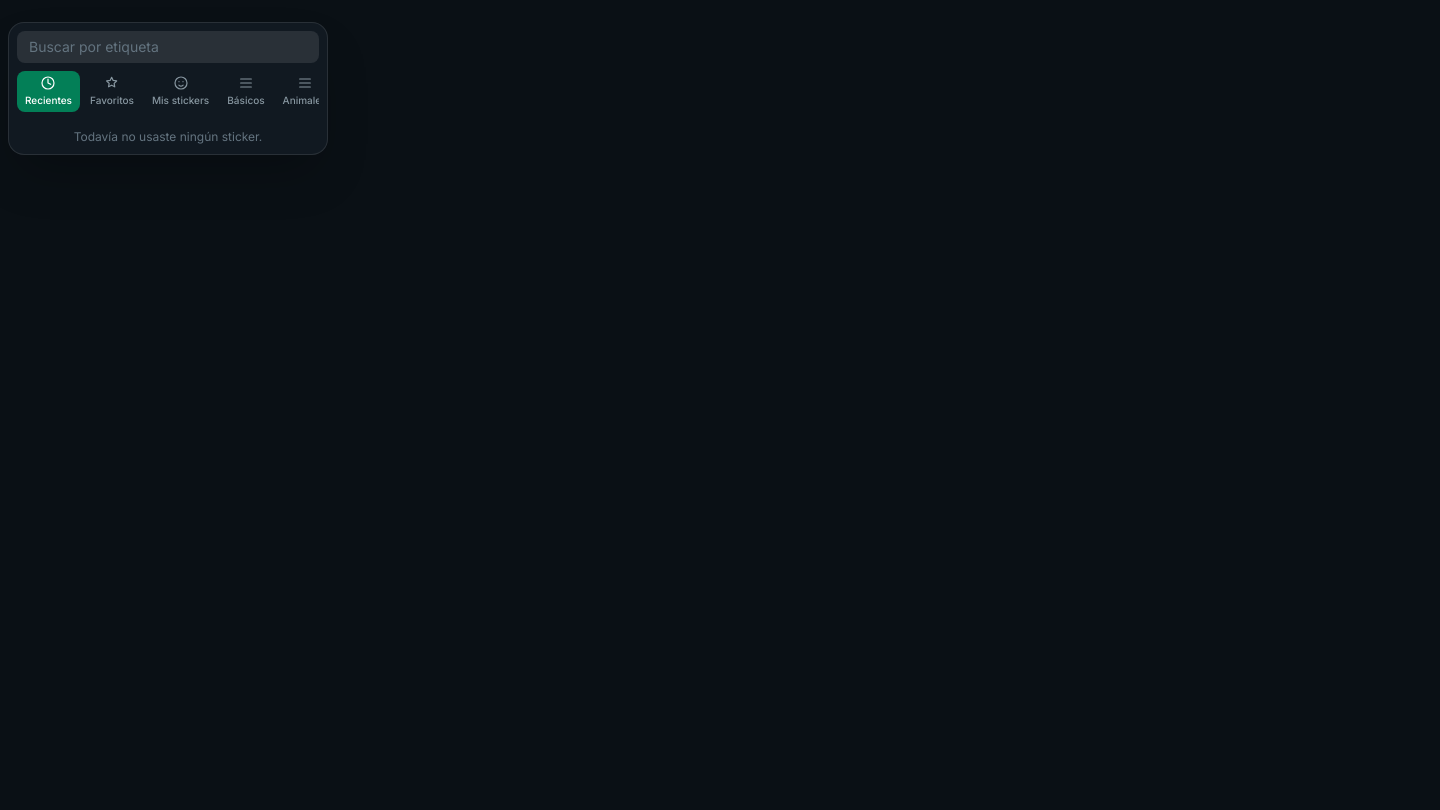
Test case: StickerPanel v2 › shows the create tile on "Mis stickers" and opens StickerCreator
The image size is (1440, 810).
Step 1. Click the tab "Mis stickers" → [181, 92], box [144,71,217,112]
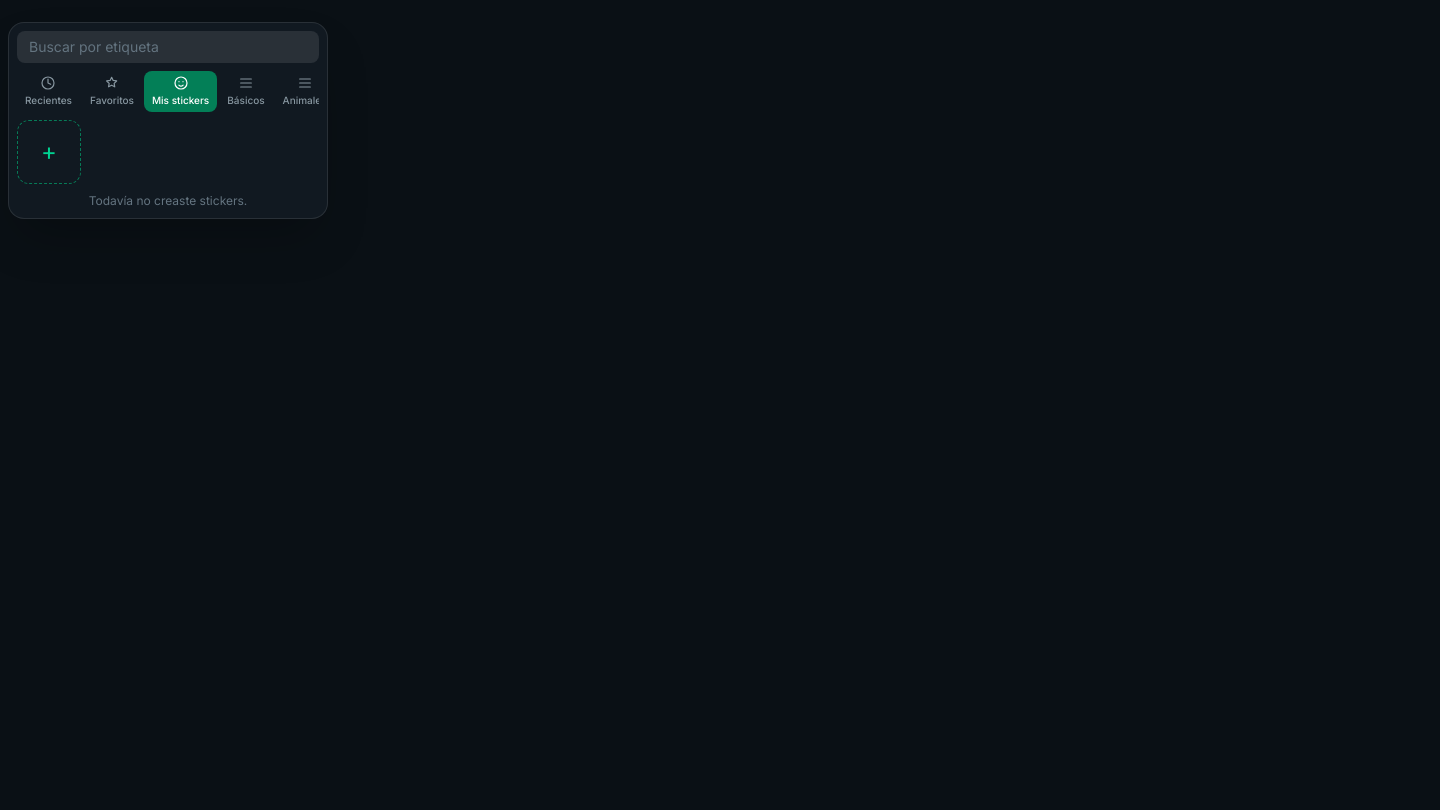
Expected: the button named "Crear sticker" is shown
Step 2. Click the button named "Crear sticker" → [49, 152], box [17,120,81,184]
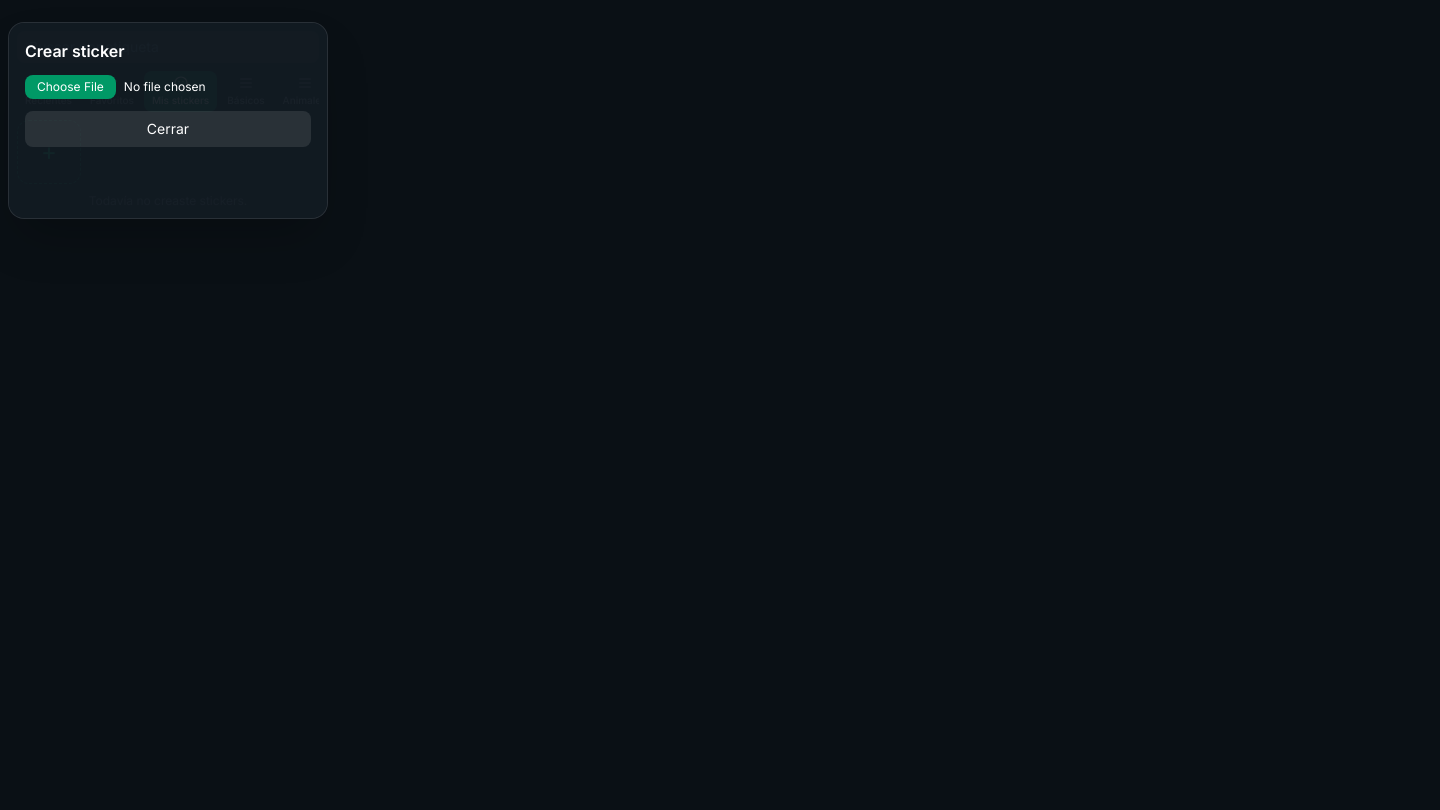
Expected: the dialog named "Crear sticker" is shown, [9,23,327,163]
